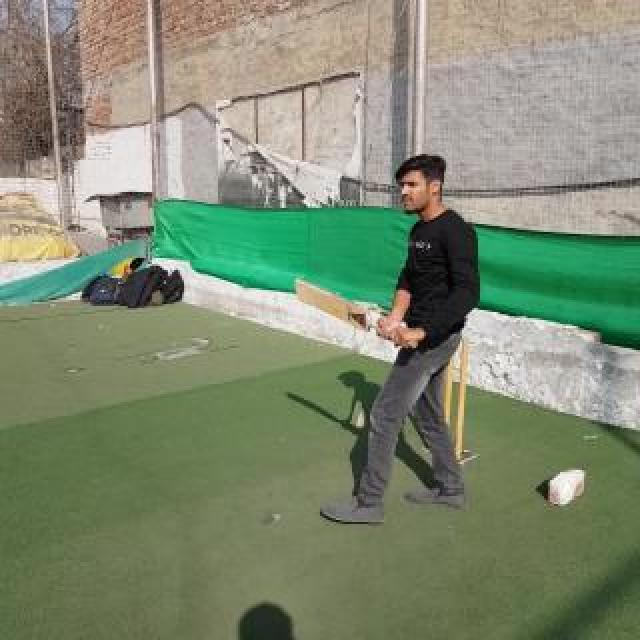bat: (294, 278, 418, 348)
